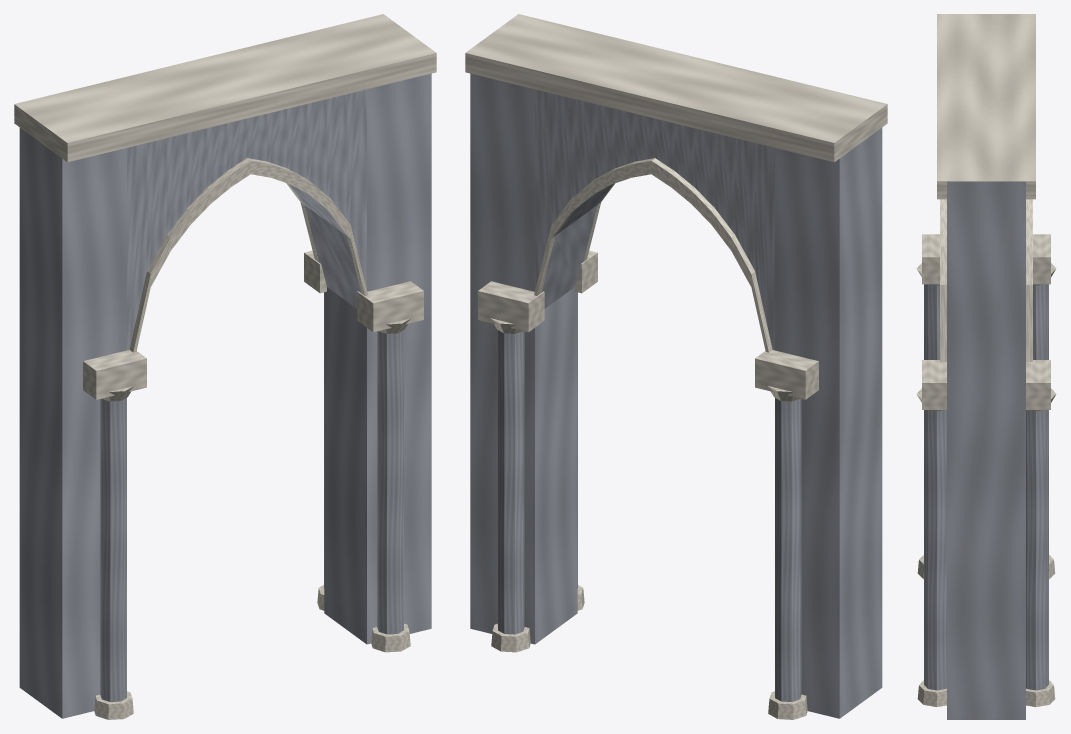
Rendered from vampire-crypt-and-gothic-cathedral-pointed-arch-4fd5d3c6__22940.glb.
3 views of the same model, side by side, from view 1: azimuth 30°, elevation 25°; view 2: azimuth 150°, elevation 25°; view 3: azimuth 270°, elevation 25° (orthographic). The views are drawn at different scales.
Parts seen in each view (by area): view 1: pointed-arch; view 2: pointed-arch; view 3: pointed-arch.
Part boxes in pixels (x1,y1,x2,y2): pointed-arch: [14, 14, 436, 719]; pointed-arch: [465, 14, 887, 719]; pointed-arch: [916, 14, 1056, 719].
Bounding box in the file's own units: 4 × 6 × 1.42.
2 materials, 2 textured.
